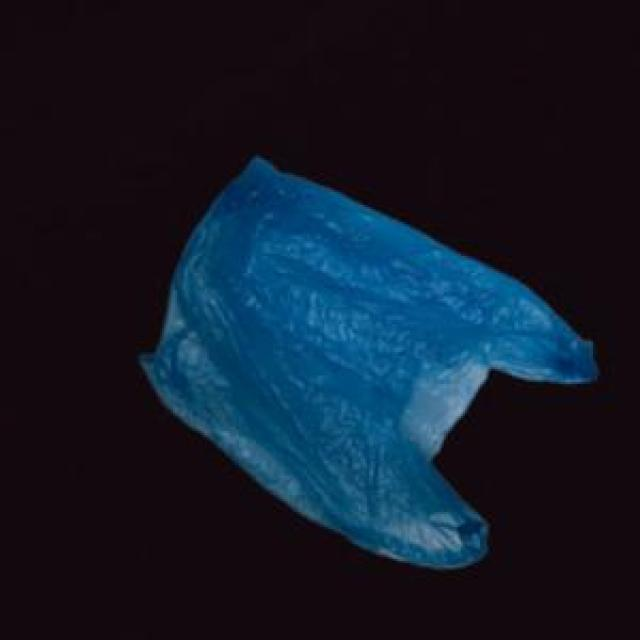waste: (140, 158, 596, 568)
